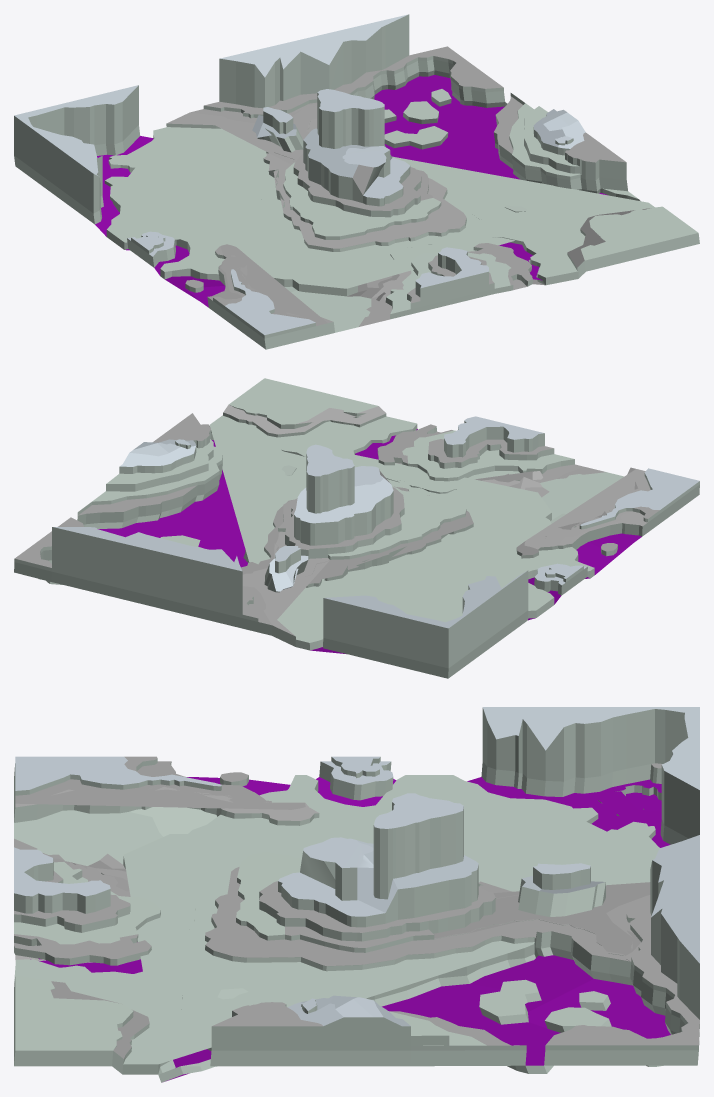
File: map.fbx
The picture shows the model from 3 angles, top to bottom: view 1: azimuth 30°, elevation 25°; view 2: azimuth 150°, elevation 25°; view 3: azimuth 270°, elevation 25°; orthographic projection. The views are drawn at different scales.
Visible parts, largest first — view 1: maps:maps:polySurface17, maps:maps:polySurface1, maps:maps:polySurface4, maps:maps:polySurface15, maps:maps:polySurface14, maps:maps:polySurface2; view 2: maps:maps:polySurface17, maps:maps:polySurface1, maps:maps:polySurface4, maps:maps:polySurface14, maps:maps:polySurface15, maps:maps:polySurface2; view 3: maps:maps:polySurface17, maps:maps:polySurface1, maps:maps:polySurface4, maps:maps:polySurface14, maps:maps:polySurface15, maps:maps:polySurface2, maps:maps:polySurface16, maps:maps:polySurface6.
Part boxes in pixels (left/top/right/bottom): maps:maps:polySurface17: left=14, top=14, right=698, bottom=335; maps:maps:polySurface1: left=104, top=14, right=699, bottom=349; maps:maps:polySurface4: left=14, top=85, right=140, bottom=224; maps:maps:polySurface15: left=317, top=93, right=384, bottom=148; maps:maps:polySurface14: left=303, top=140, right=410, bottom=206; maps:maps:polySurface2: left=127, top=235, right=175, bottom=267; maps:maps:polySurface17: left=15, top=378, right=699, bottom=654; maps:maps:polySurface1: left=14, top=405, right=699, bottom=650; maps:maps:polySurface4: left=323, top=570, right=528, bottom=678; maps:maps:polySurface14: left=294, top=491, right=393, bottom=545; maps:maps:polySurface15: left=306, top=454, right=354, bottom=513; maps:maps:polySurface2: left=534, top=566, right=587, bottom=595; maps:maps:polySurface17: left=14, top=707, right=699, bottom=1081; maps:maps:polySurface1: left=14, top=758, right=699, bottom=1082; maps:maps:polySurface4: left=481, top=708, right=699, bottom=844; maps:maps:polySurface14: left=278, top=851, right=478, bottom=927; maps:maps:polySurface15: left=373, top=802, right=463, bottom=899; maps:maps:polySurface2: left=319, top=757, right=393, bottom=800; maps:maps:polySurface16: left=533, top=866, right=590, bottom=889; maps:maps:polySurface6: left=479, top=990, right=541, bottom=1024.
Size of the model in its own units: 141 by 29.82 by 140.
